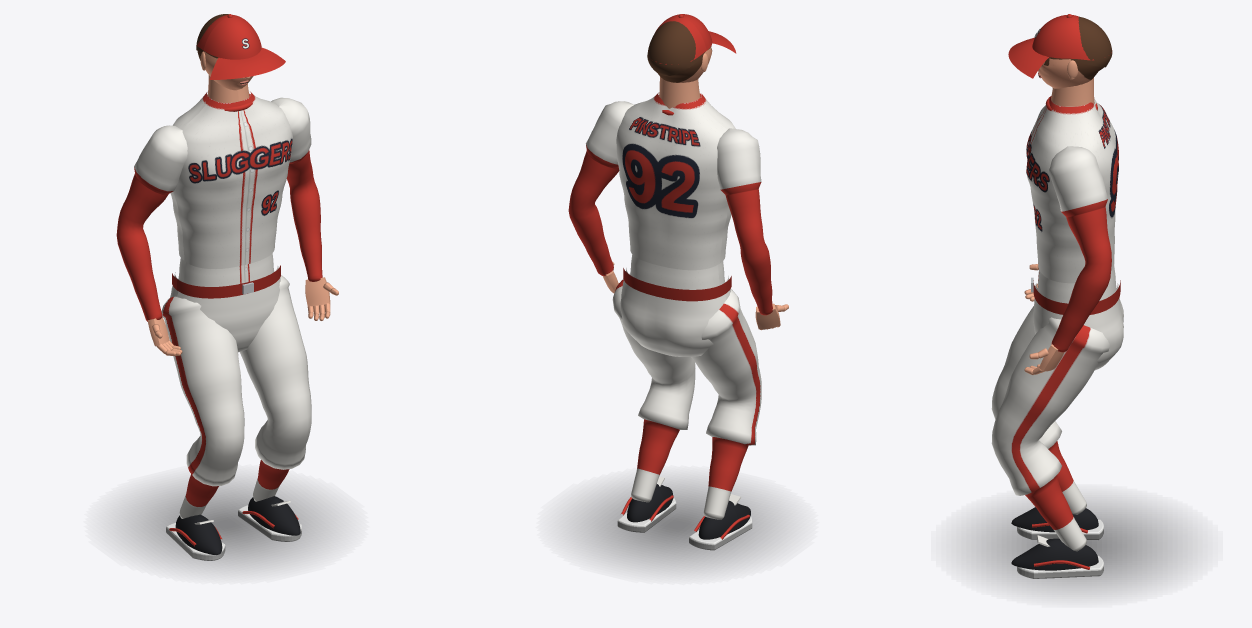
Rendered from player_21_home.glb.
The picture shows the model from 3 angles, left to right: view 1: azimuth 30°, elevation 25°; view 2: azimuth 150°, elevation 25°; view 3: azimuth 270°, elevation 25°; orthographic projection. The views are drawn at different scales.
Visible parts, largest first — view 1: player_21_home, object 30, object 32, object 2; view 2: player_21_home, object 29, object 2, object 30; view 3: player_21_home, object 30, object 29, object 34, object 32, object 2.
Boxes of the visible parts, bbox=[...] form: player_21_home: bbox=[116, 91, 334, 570]; object 30: bbox=[196, 14, 261, 59]; object 32: bbox=[209, 47, 285, 79]; object 2: bbox=[207, 75, 249, 102]; player_21_home: bbox=[568, 92, 785, 570]; object 29: bbox=[647, 21, 711, 76]; object 2: bbox=[659, 77, 700, 108]; object 30: bbox=[652, 14, 712, 64]; player_21_home: bbox=[966, 96, 1187, 592]; object 30: bbox=[1032, 14, 1112, 60]; object 29: bbox=[1049, 16, 1112, 67]; object 34: bbox=[1038, 58, 1103, 88]; object 32: bbox=[1008, 37, 1049, 78]; object 2: bbox=[1051, 77, 1094, 106].
Bounding box in the file's own units: 3.4 × 6.29 × 3.4.
27 materials, 5 textured.
